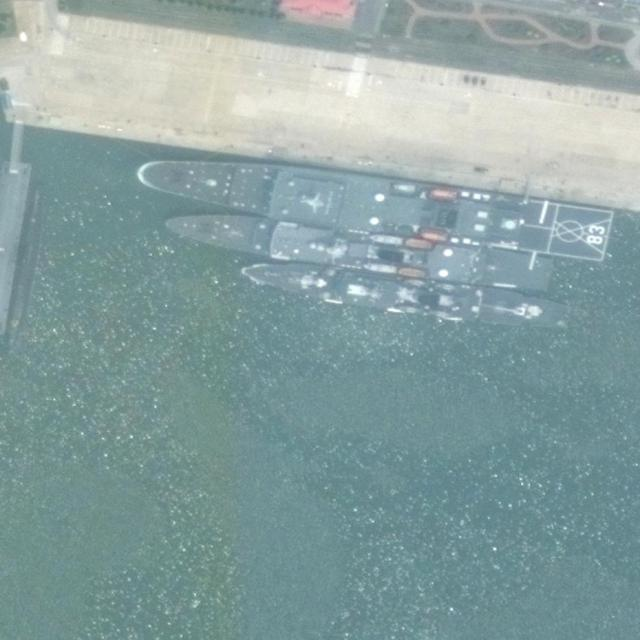Auxiliary Ships: (132, 145, 612, 265), (160, 207, 555, 295), (235, 257, 573, 334)
Submarine: (1, 184, 52, 370)
